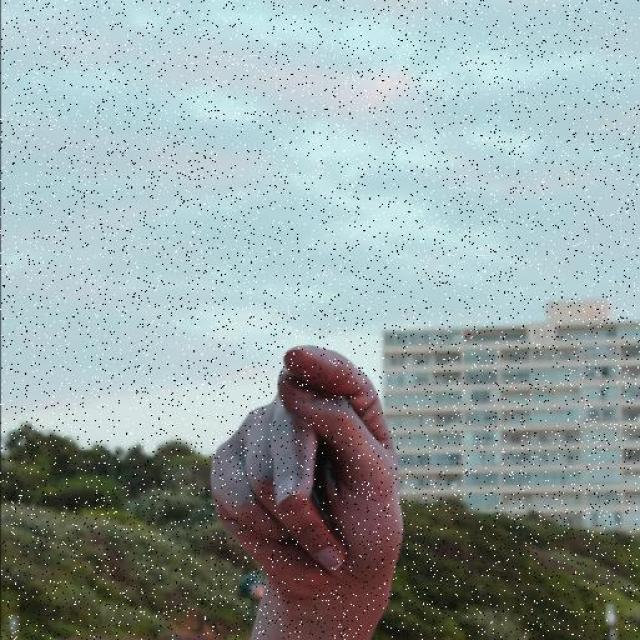P: (193, 340, 404, 640)
